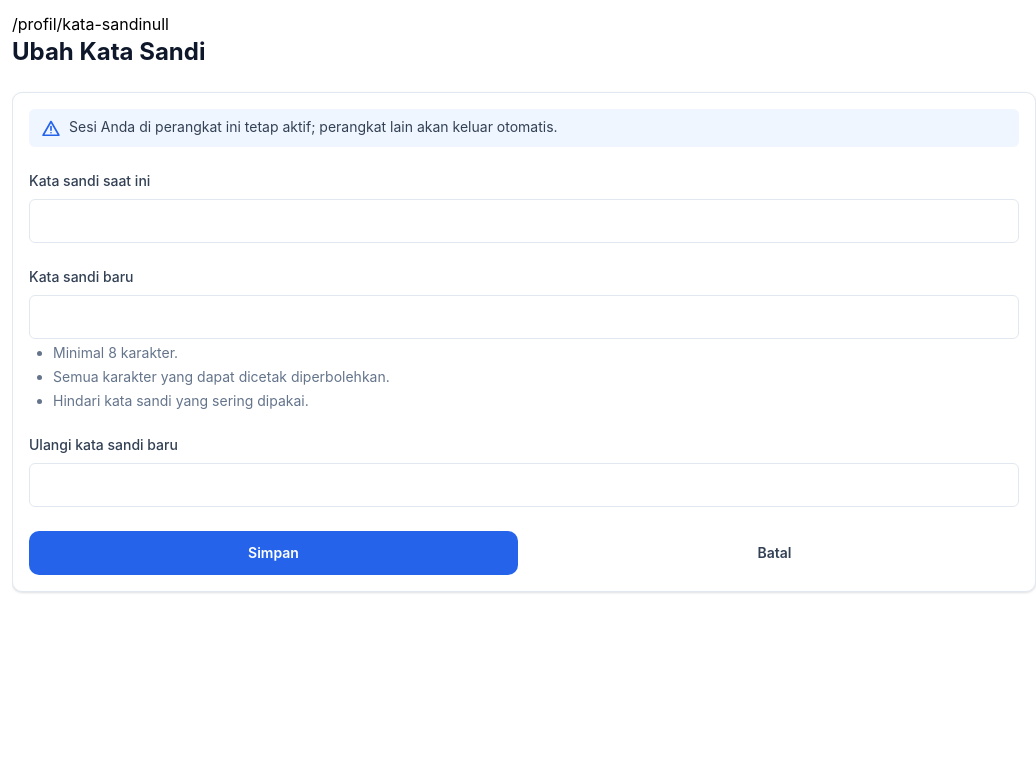
Scenario: ChangePasswordPage › requires the current password before anything else is checked
In the password field labelled "Kata sandi baru": (524,317) x1=29 y1=295 x2=1019 y2=339, type "brand-new-pass"
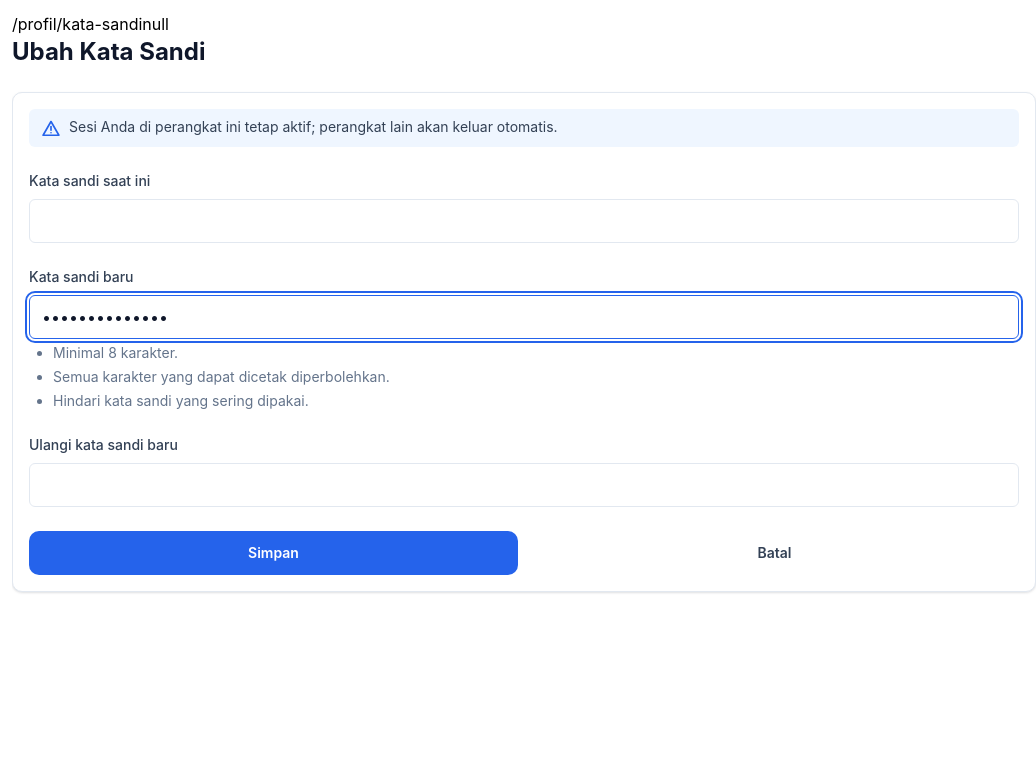
In the password field labelled "Ulangi kata sandi baru": (524,485) x1=29 y1=463 x2=1019 y2=507, type "brand-new-pass"
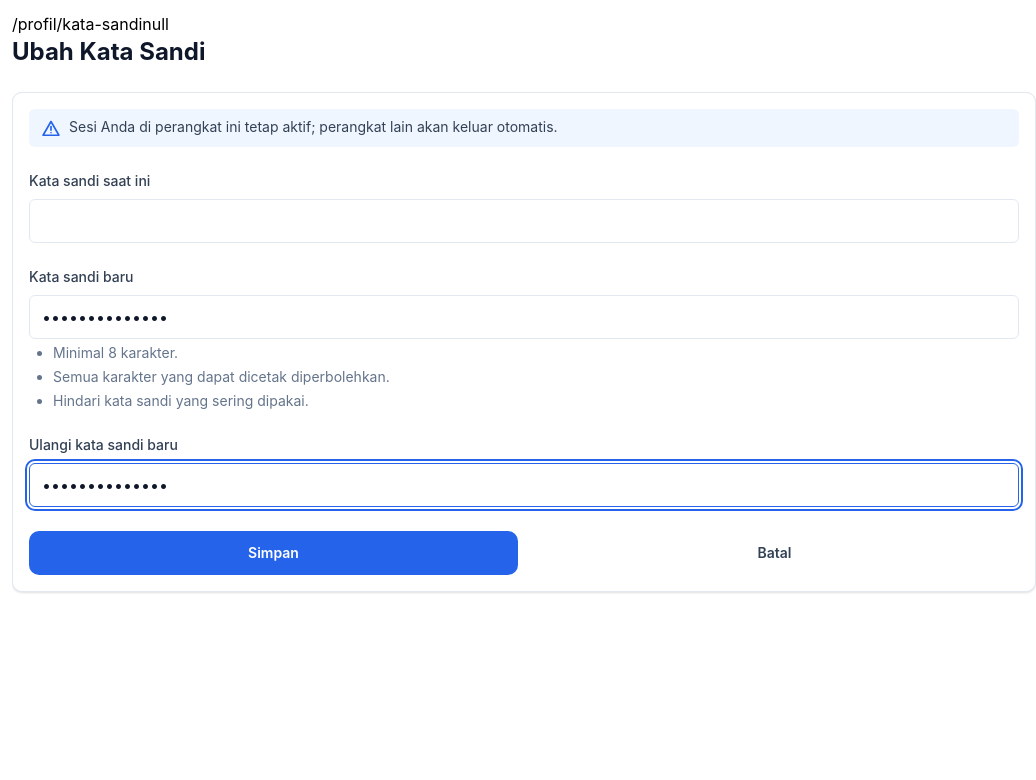
Click the button "Simpan": (274,553) x1=29 y1=531 x2=518 y2=575
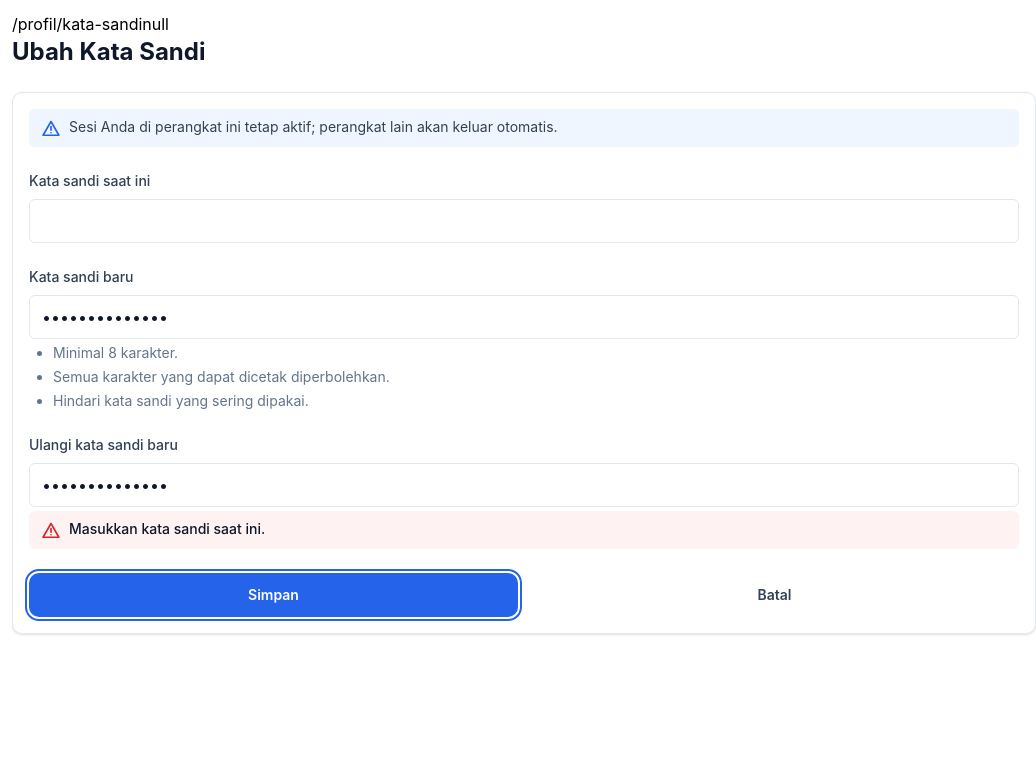
Result: the message with test id "password-error" reads "Masukkan kata sandi saat ini." at x1=69 y1=520 x2=265 y2=537
